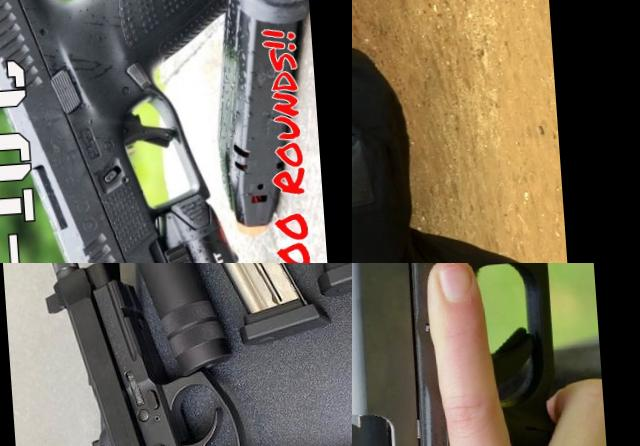handgun: (0, 0, 283, 263), (34, 263, 352, 446), (352, 263, 582, 446), (352, 0, 381, 50)
